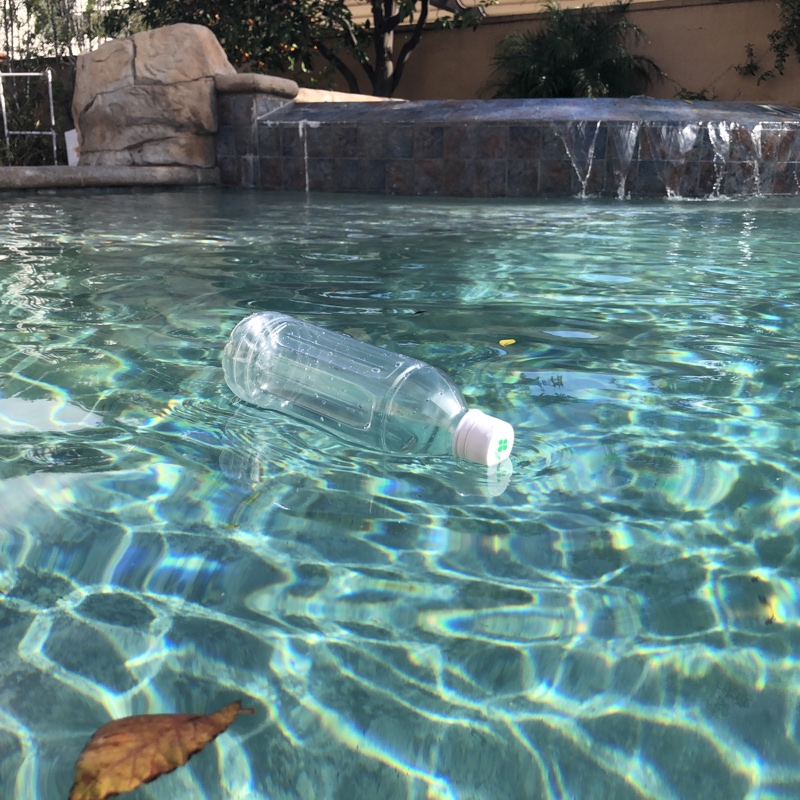Plastic Bottle: (219, 305, 519, 477)
